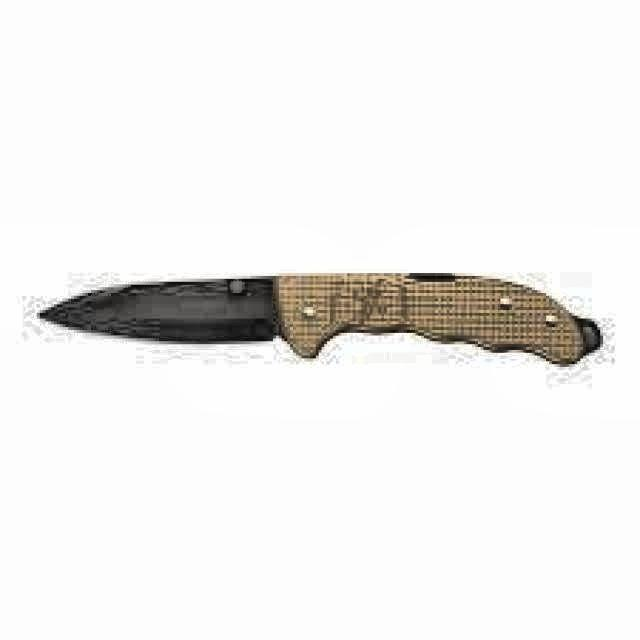knife: (32, 266, 606, 366)
